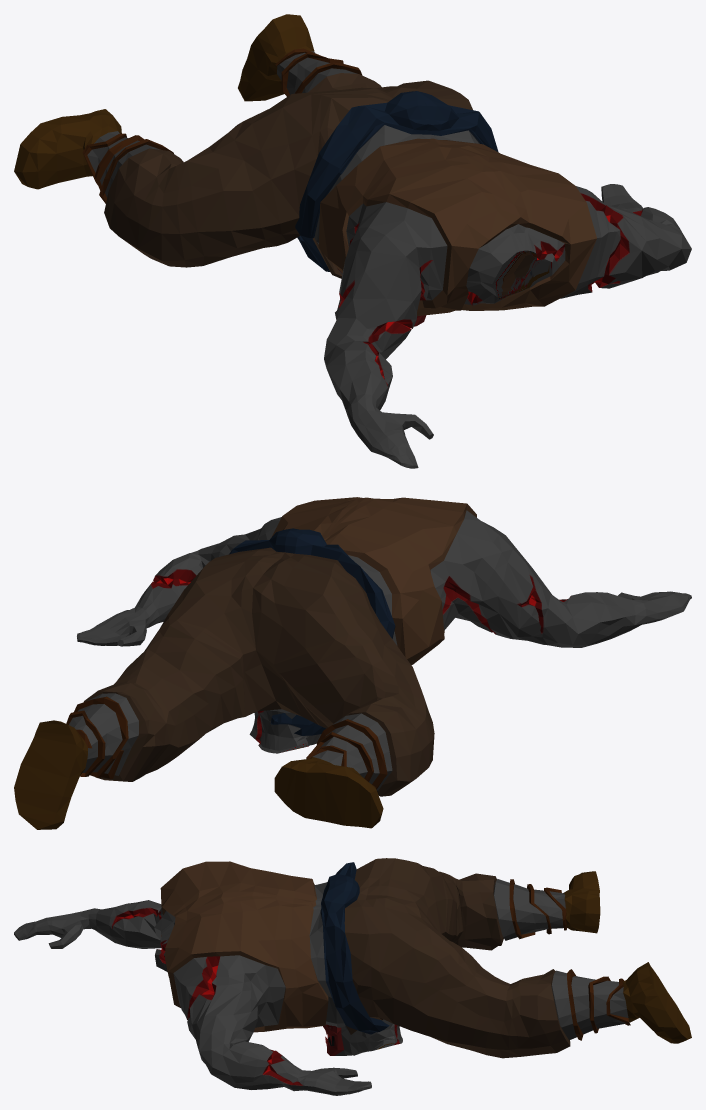
File: Boss1_dead.fbx
3 views of the same model, one above another, from view 1: azimuth 30°, elevation 25°; view 2: azimuth 150°, elevation 25°; view 3: azimuth 270°, elevation 25° (orthographic). The views are drawn at different scales.
Parts seen in each view (by area): view 1: Lvl1_Boss; view 2: Lvl1_Boss, Boss1Head; view 3: Lvl1_Boss, Boss1Head.
Boxes of the visible parts, x1=… form: Lvl1_Boss: x1=14, y1=14, x2=691, y2=468; Lvl1_Boss: x1=14, y1=497, x2=691, y2=829; Boss1Head: x1=249, y1=709, x2=321, y2=753; Lvl1_Boss: x1=14, y1=858, x2=691, y2=1095; Boss1Head: x1=323, y1=1019, x2=402, y2=1055.
Size of the model in its own units: 221 by 102 by 351.
